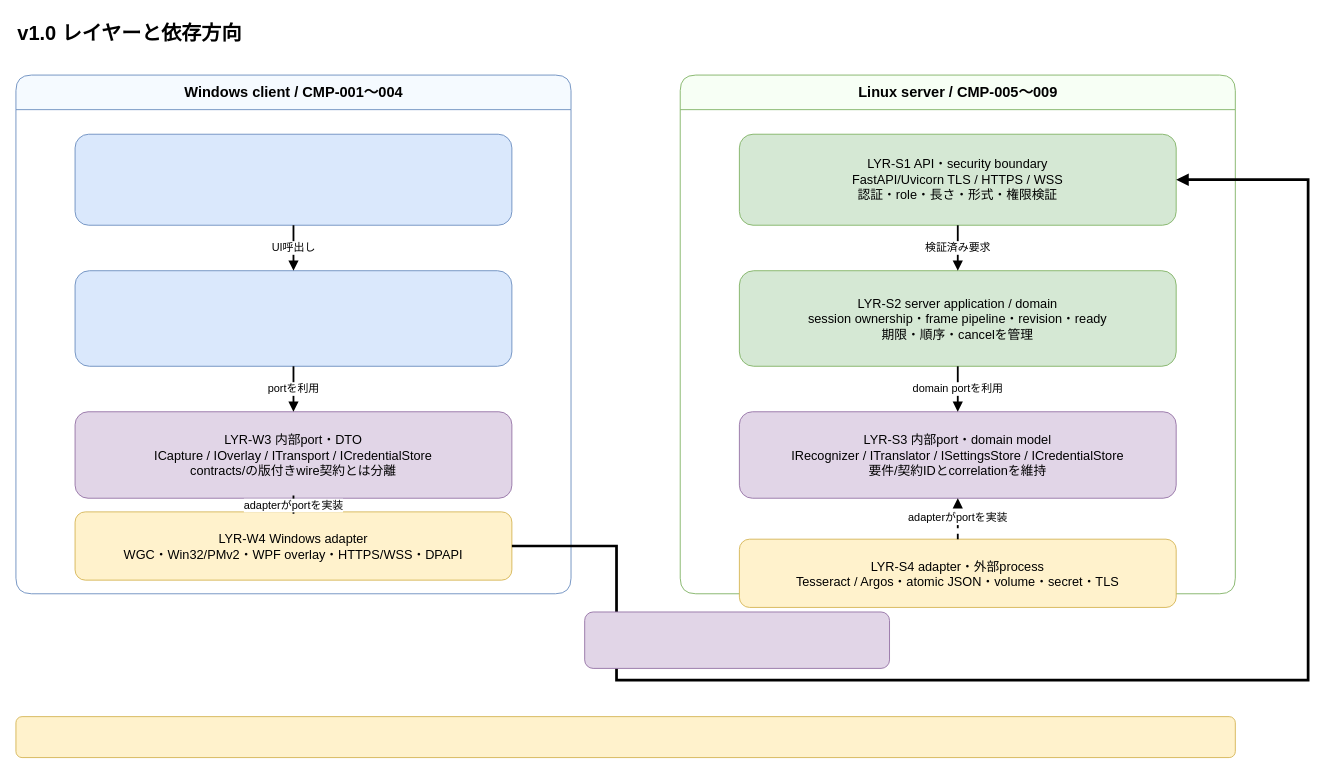
The diagram is 1332 pixels wide and 774 high, and some of its shapes have lost their labels. Here are the shapes that lost their labels. From the top down, the centre of each, then its label:
pixel 293 179: LYR-W1 UI / プレゼンテーション WPF・SCR-001～003 操作・状態・字幕表示
pixel 293 318: LYR-W2 アプリケーション 接続 / 対象選択 / 明示開始・停止 / 設定編集 session・generation・履歴のuse case
pixel 737 639: Windows client → Linux API HTTPS control / WSS stream contracts/で型・versionを共有
pixel 625 737: 実線: 呼出し/データ経路 破線: adapterから内側portへの実装依存 層をまたぐ参照はcontracts/の公開契約だけ
